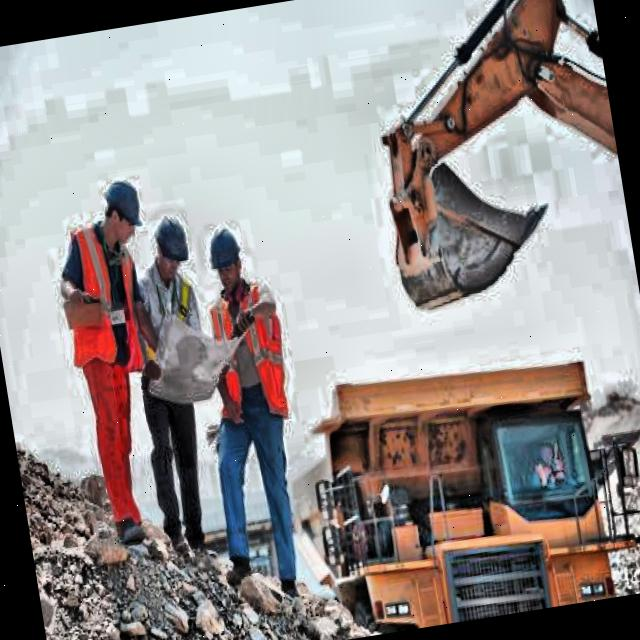helmet: (92, 172, 148, 251), (202, 222, 252, 298), (146, 208, 192, 282)
